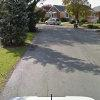Tree: (2, 1, 38, 58)
